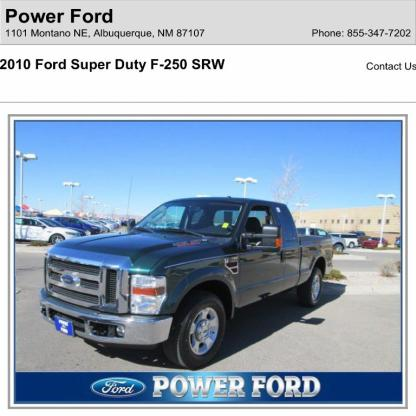Truck: (38, 196, 334, 369)
